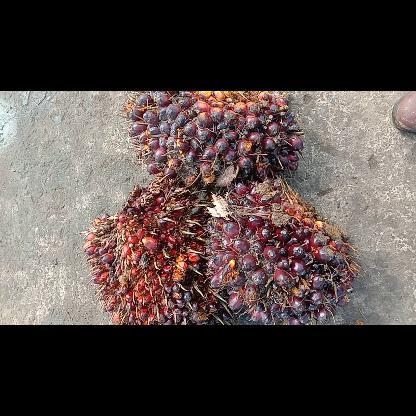Kurang masak: (207, 176, 357, 324), (122, 90, 304, 184)
TBS masak: (82, 186, 220, 324)
